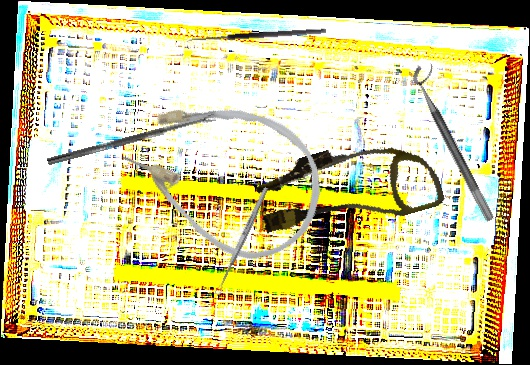Cannula: (104, 65, 345, 281), (249, 122, 447, 254)
Fixation Ring: (407, 59, 508, 223)
Hook Surgical: (186, 27, 327, 50)
Surgical Spoon: (46, 113, 217, 167), (213, 186, 270, 296)
